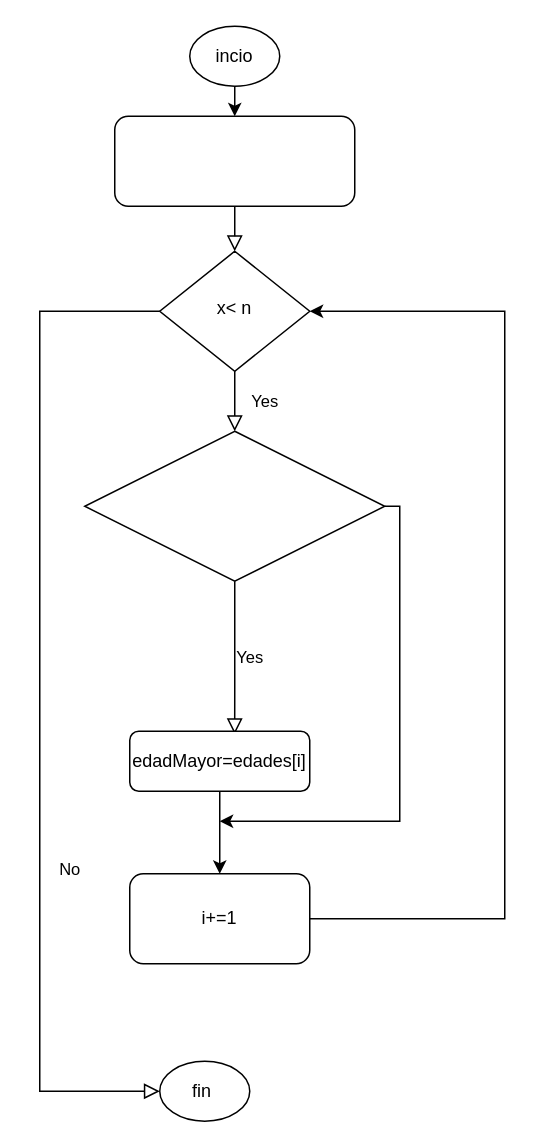
Some shapes in this 543 by 1148 pixel diagram are drawn without their labels. The shapes that lost their labels are listed below. From the top down, each one's centre as x and y in pixels, then its label:
At pixel 234 160: "n = 4 edades[n]={10.20.30.20} x=0 edadMayor".
At pixel 234 505: "edadMayor<=edades[i]".
